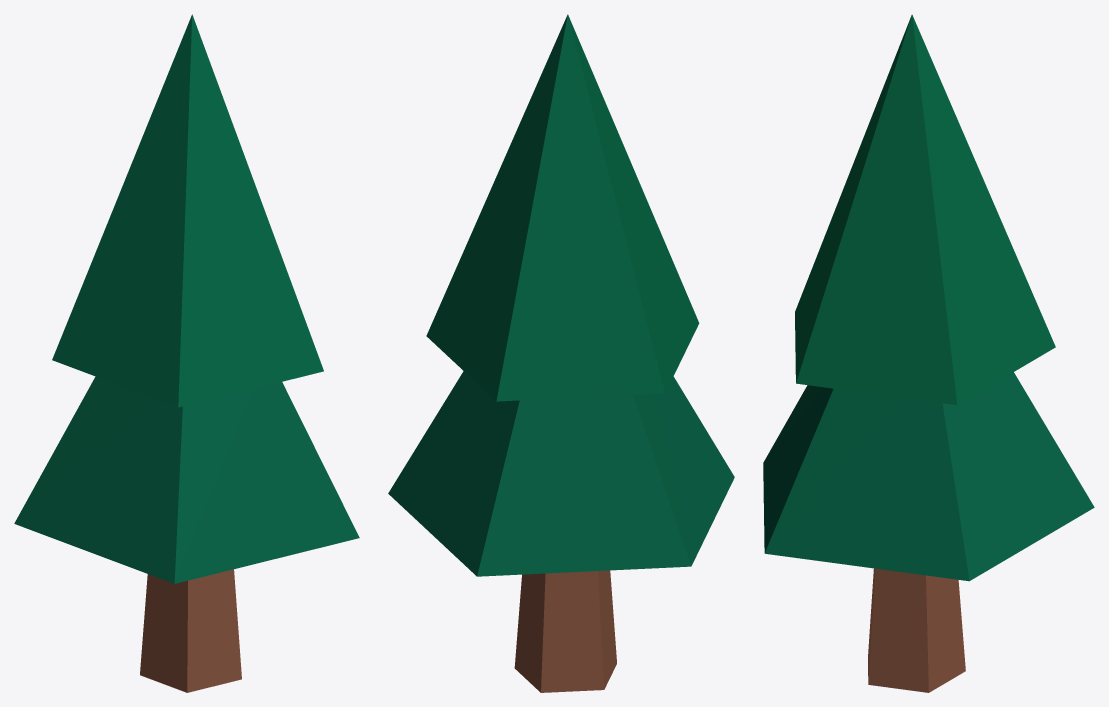
The model's file is tree.glb.
3 renders of one model, left to right at view 1: azimuth 30°, elevation 25°; view 2: azimuth 150°, elevation 25°; view 3: azimuth 270°, elevation 25°, orthographic.
Visible parts, largest first — view 1: tree_single_A; view 2: tree_single_A; view 3: tree_single_A.
Boxes of the visible parts, box(x1,y1,x2,y2) form: tree_single_A: box(14, 14, 359, 692); tree_single_A: box(388, 14, 734, 692); tree_single_A: box(763, 14, 1094, 692).
Bounding box in the file's own units: 0.574 × 1.2 × 0.547.
